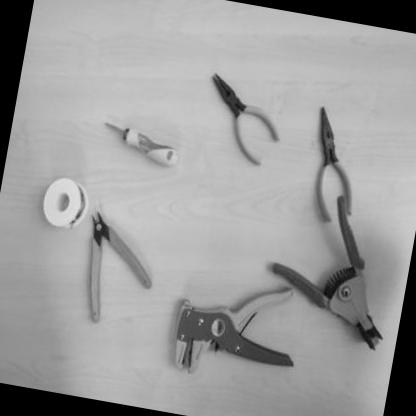Screwdriver: (94, 117, 184, 171)
